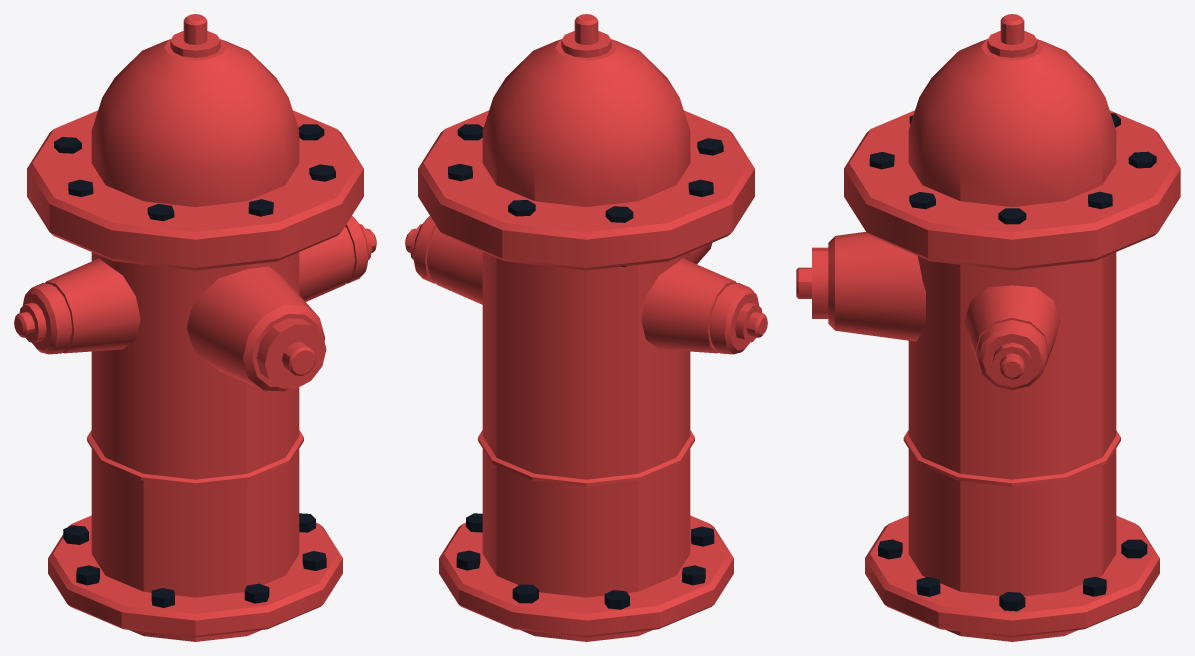
The model's file is fire-hydrant.fbx.
The picture shows the model from 3 angles, left to right: view 1: azimuth 30°, elevation 25°; view 2: azimuth 150°, elevation 25°; view 3: azimuth 270°, elevation 25°; orthographic projection.
Visible parts, largest first — view 1: 7. fire-hydrant; view 2: 7. fire-hydrant; view 3: 7. fire-hydrant.
Boxes of the visible parts, <box> form: 7. fire-hydrant: <box>14,14,376,641</box>; 7. fire-hydrant: <box>405,14,767,641</box>; 7. fire-hydrant: <box>796,14,1180,641</box>.
Size of the model in its own units: 0.7266 by 1.14 by 0.6843.
